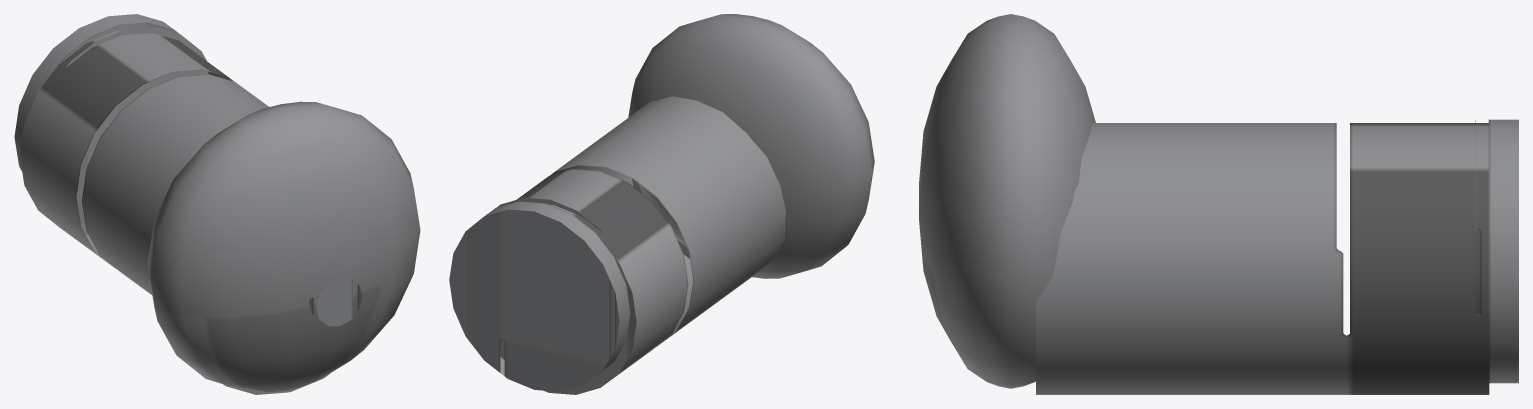
3 views of the same model, side by side, from view 1: azimuth 30°, elevation 25°; view 2: azimuth 150°, elevation 25°; view 3: azimuth 270°, elevation 25° (orthographic). The views are drawn at different scales.
Size of the model in its own units: 1.04 by 1.04 by 1.69.
